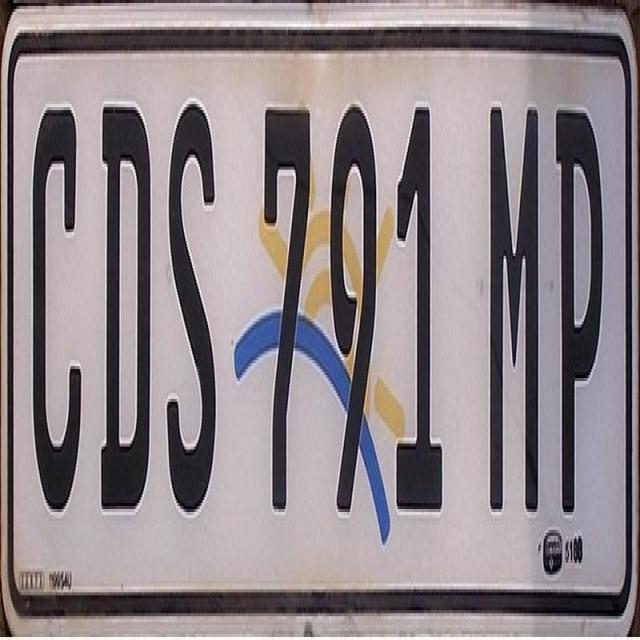placa: (16, 70, 622, 517)
